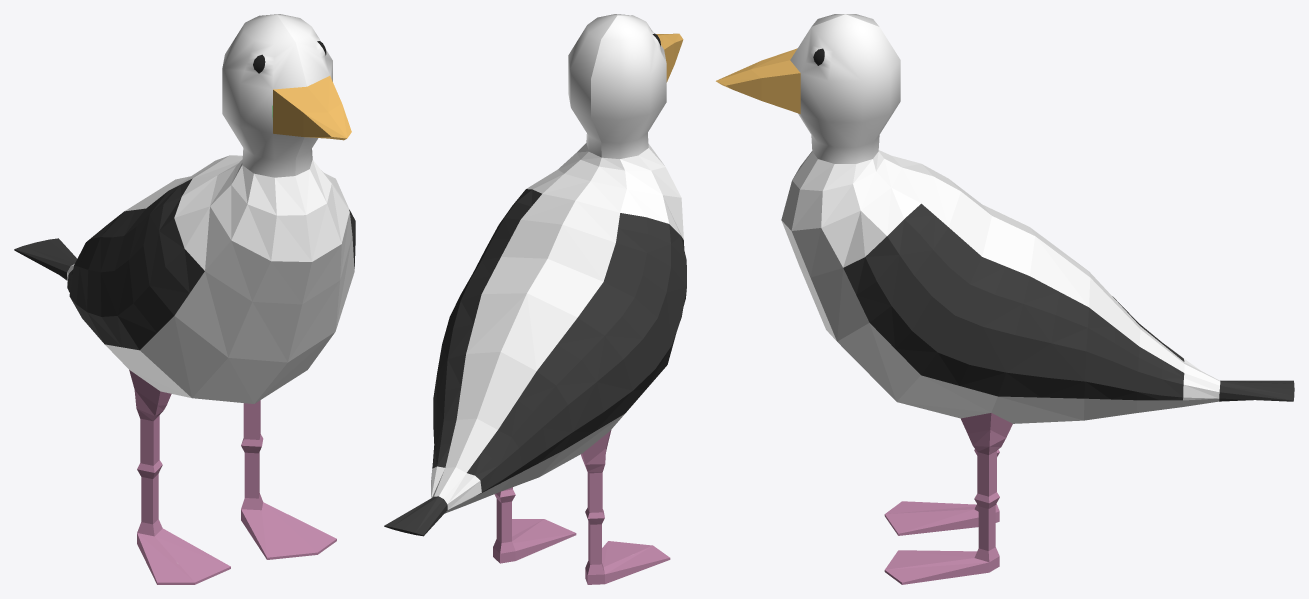
File: seagull.glb
The picture shows the model from 3 angles, left to right: view 1: azimuth 30°, elevation 25°; view 2: azimuth 150°, elevation 25°; view 3: azimuth 270°, elevation 25°; orthographic projection. The views are drawn at different scales.
Visible parts, largest first — view 1: Sphere001; view 2: Sphere001; view 3: Sphere001.
Boxes of the visible parts, x1,y1,x2,y2 form: Sphere001: (14, 14, 355, 584); Sphere001: (384, 14, 686, 584); Sphere001: (716, 14, 1294, 584).
Size of the model in its own units: 23.88 by 58.88 by 58.32.
Materials: 1 (1 with a texture image).
